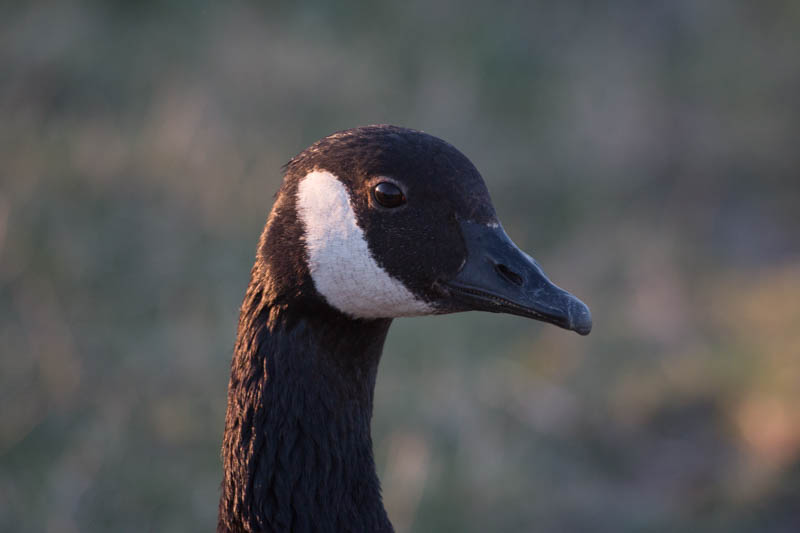goose-head: (240, 125, 595, 340)
